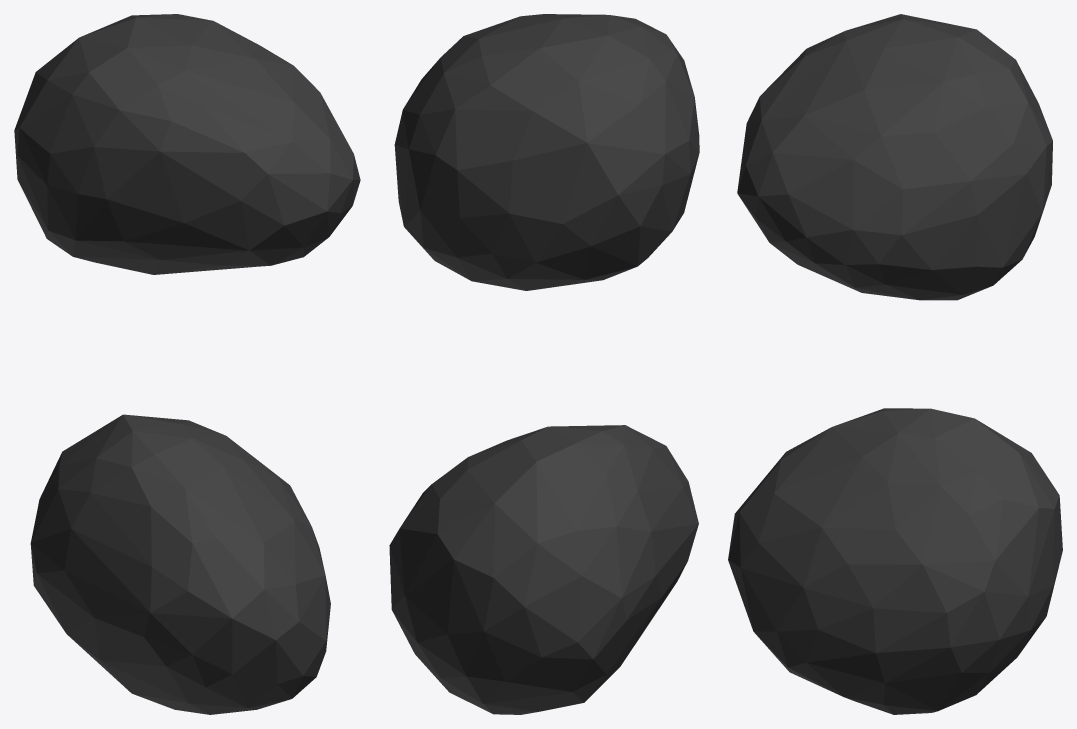
Rendered from node_lymph_colic_middle_LP.glb.
3 views of the same model, side by side, from view 1: azimuth 30°, elevation 25°; view 2: azimuth 150°, elevation 25°; view 3: azimuth 270°, elevation 25° (orthographic). The views are drawn at different scales.
Parts seen in each view (by area): view 1: node_lymph_colic_middle_LP; view 2: node_lymph_colic_middle_LP; view 3: node_lymph_colic_middle_LP.
Boxes of the visible parts, box(x1,y1,x2,y2) form: node_lymph_colic_middle_LP: box(14, 14, 360, 714); node_lymph_colic_middle_LP: box(389, 14, 699, 714); node_lymph_colic_middle_LP: box(728, 14, 1062, 714).
Bounding box in the file's own units: 0.000557 × 0.00129 × 0.000604.
1 material, 1 textured.
